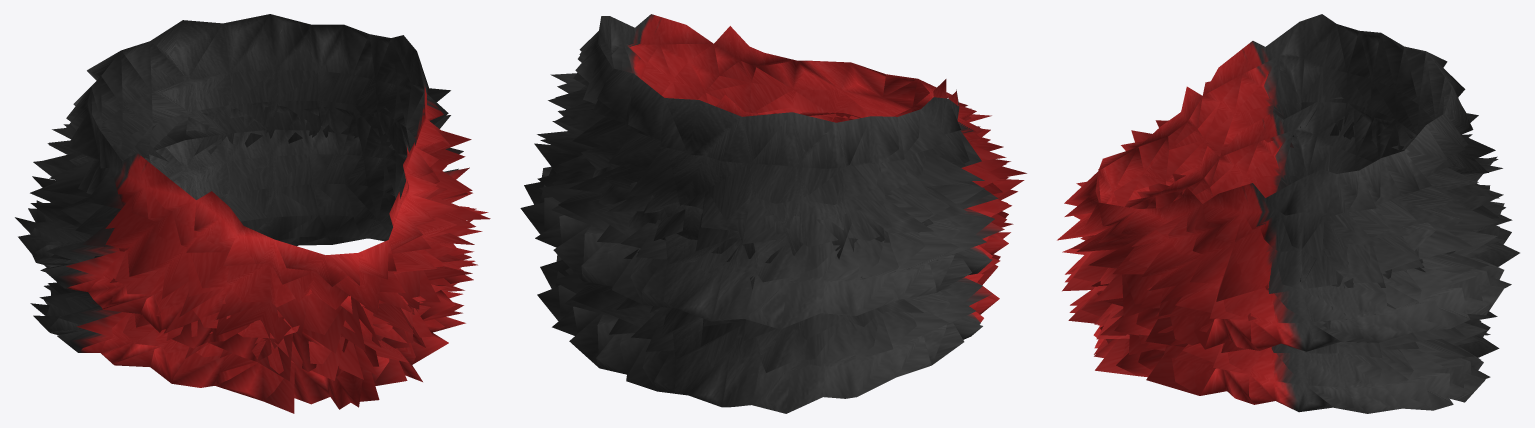
The model's file is NeckFluff.fbx.
3 views of the same model, side by side, from view 1: azimuth 30°, elevation 25°; view 2: azimuth 150°, elevation 25°; view 3: azimuth 270°, elevation 25° (orthographic). The views are drawn at different scales.
Visible parts, largest first — view 1: Body.001; view 2: Body.001; view 3: Body.001.
Part boxes in pixels (<box>): Body.001: <box>15,14,490,413</box>; Body.001: <box>520,14,1026,413</box>; Body.001: <box>1057,14,1519,413</box>.
Size of the model in its own units: 20.63 by 13.02 by 19.64.
1 material, 1 textured.
